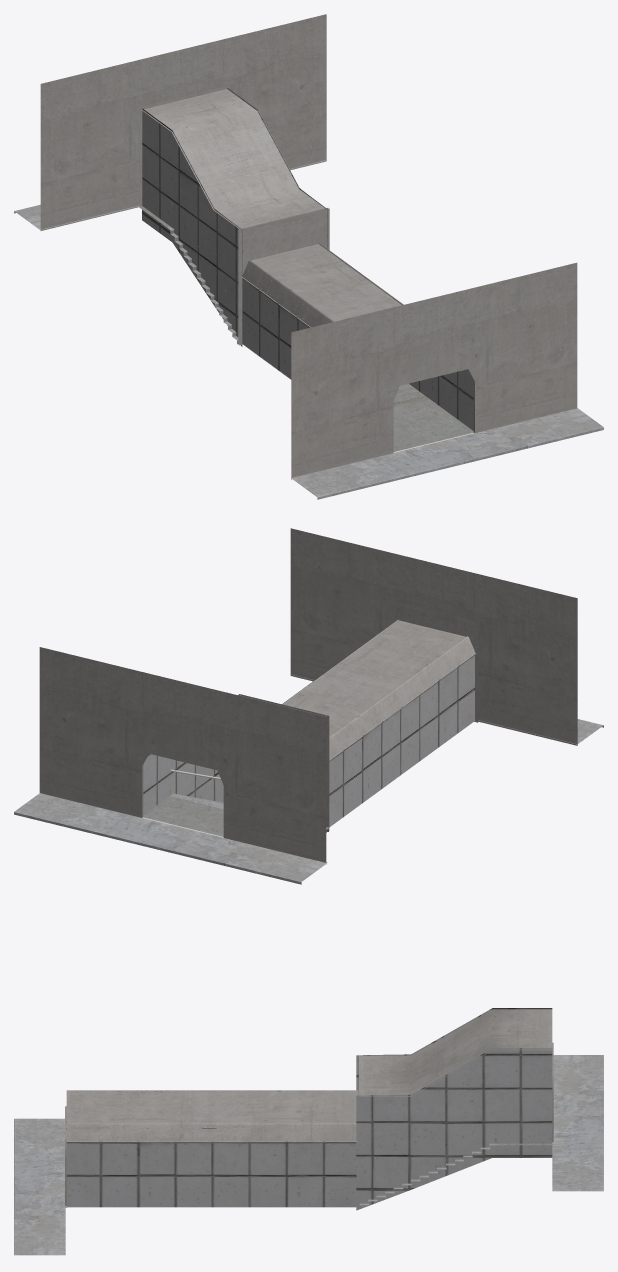
File: tunnel.glb
The picture shows the model from 3 angles, top to bottom: view 1: azimuth 30°, elevation 25°; view 2: azimuth 150°, elevation 25°; view 3: azimuth 270°, elevation 25°; orthographic projection. The views are drawn at different scales.
Parts seen in each view (by area): view 1: TunnelWall06.Shape, TunnelWall01.Shape, TunnelGround.Shape, TunnelCeiling01.Shape, TunnelWall02.Shape, TunnelCeiling02.Shape, MidWall.Shape, TunnelWall04.Shape, TunnelWall05.Shape; view 2: TunnelWall01.Shape, TunnelWall06.Shape, TunnelCeiling02.Shape, TunnelGround.Shape, TunnelWall04.Shape, TunnelWall03.Shape, MidWall.Shape; view 3: TunnelWall03.Shape, TunnelWall05.Shape, TunnelCeiling02.Shape, TunnelGround.Shape, TunnelCeiling01.Shape, TunnelWall02.Shape.
Part boxes in pixels (x1,y1,x2,y2): TunnelWall06.Shape: [291, 262, 577, 479]; TunnelWall01.Shape: [40, 14, 326, 230]; TunnelGround.Shape: [14, 160, 603, 499]; TunnelCeiling01.Shape: [142, 89, 326, 229]; TunnelWall02.Shape: [142, 108, 242, 346]; TunnelCeiling02.Shape: [242, 243, 403, 327]; MidWall.Shape: [238, 208, 329, 345]; TunnelWall04.Shape: [242, 277, 310, 379]; TunnelWall05.Shape: [409, 369, 473, 430]; TunnelWall01.Shape: [39, 647, 326, 864]; TunnelWall06.Shape: [290, 528, 577, 745]; TunnelCeiling02.Shape: [282, 619, 475, 759]; TunnelGround.Shape: [14, 674, 603, 884]; TunnelWall04.Shape: [329, 653, 475, 827]; TunnelWall03.Shape: [143, 695, 240, 814]; MidWall.Shape: [238, 694, 329, 831]; TunnelWall03.Shape: [356, 1048, 552, 1210]; TunnelWall05.Shape: [66, 1141, 357, 1207]; TunnelCeiling02.Shape: [66, 1090, 357, 1142]; TunnelGround.Shape: [14, 1055, 603, 1255]; TunnelCeiling01.Shape: [359, 1009, 552, 1096]; TunnelWall02.Shape: [356, 1008, 552, 1090].
Bounding box in the file's own units: 9.85 × 7.02 × 17.94.
17 materials, 14 textured.
